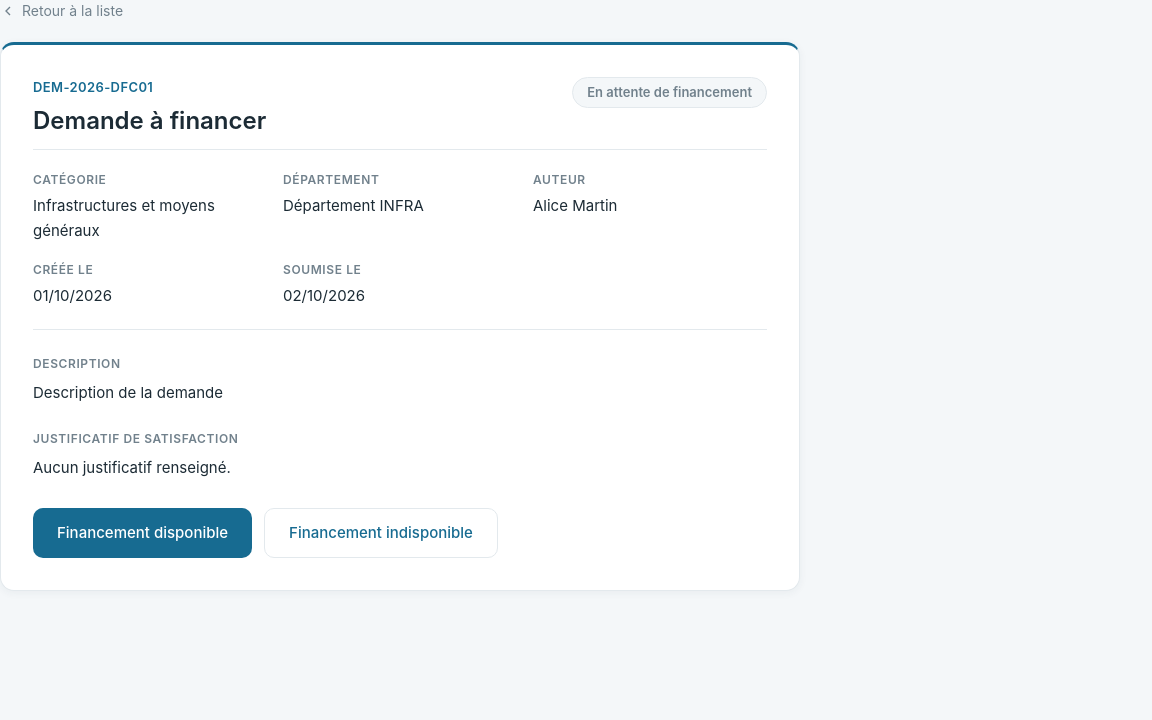
it: DFC UI : une erreur serveur ne provoque pas de fausse confirmation
Click the button "Financement disponible" at (142, 533), box [33, 508, 252, 558]
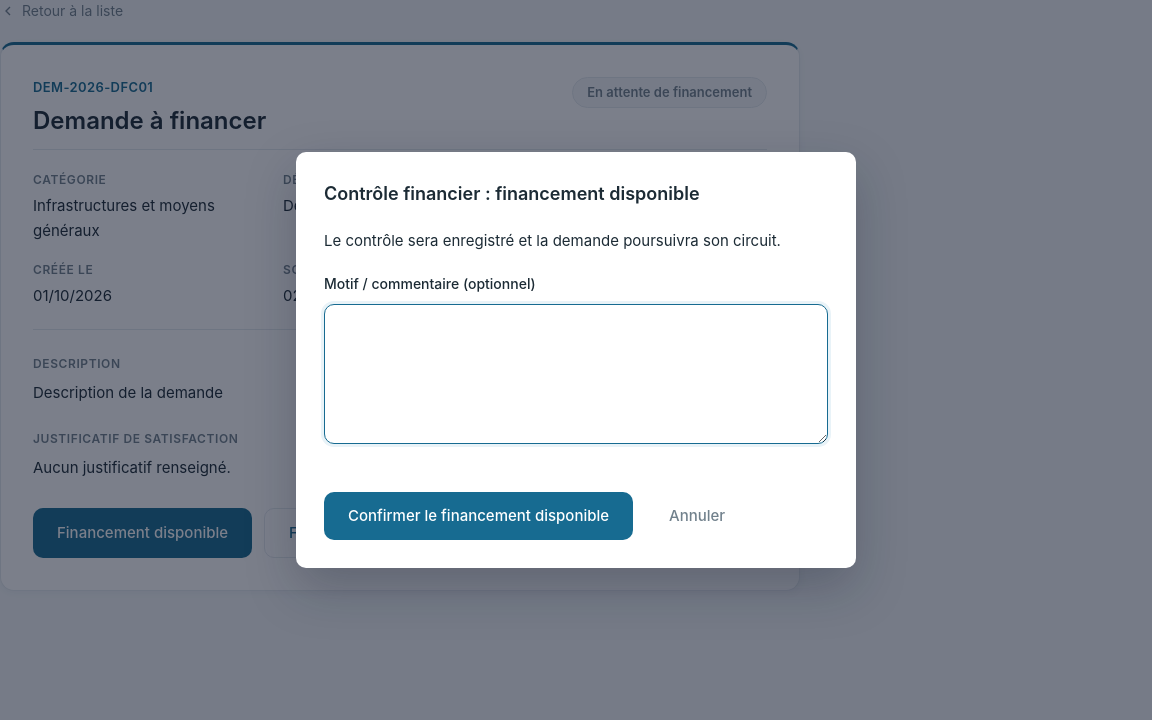
Click the button "Confirmer le financement disponible" at (479, 516), box [324, 492, 633, 540]
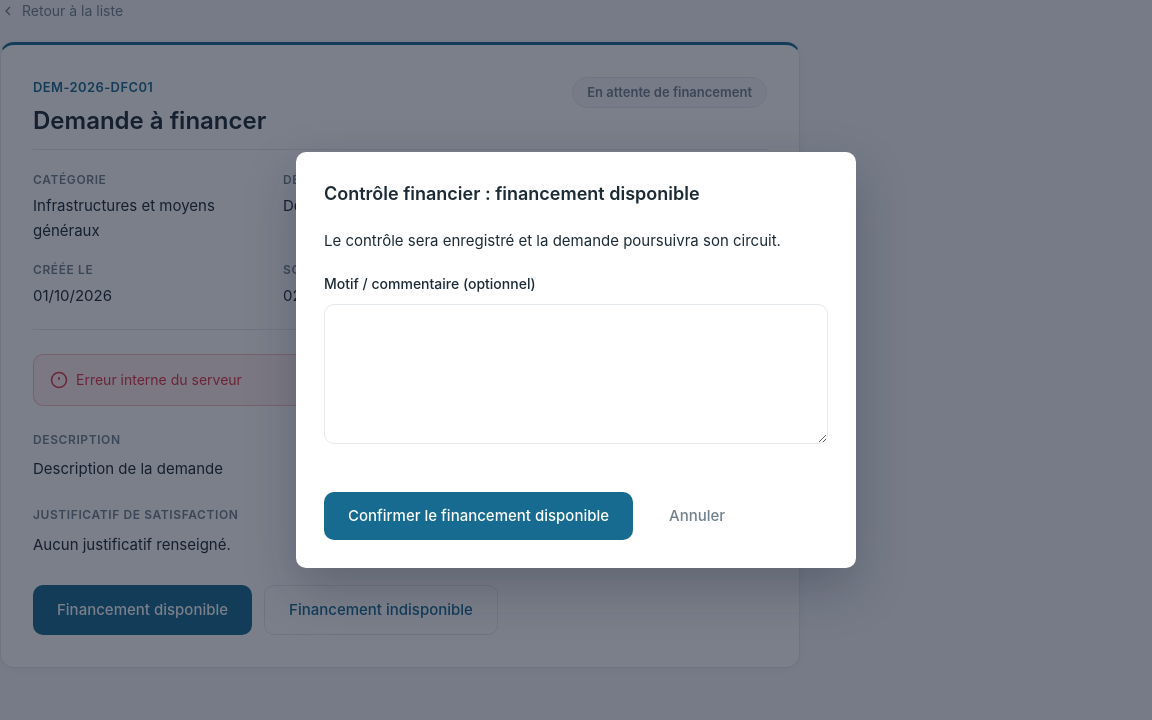
Now the message "Erreur interne du serveur" is shown, box [33, 354, 767, 406]
